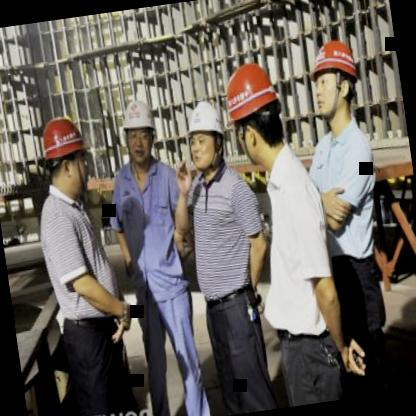helmet: (222, 55, 290, 173), (32, 108, 96, 202), (301, 37, 363, 127), (176, 92, 230, 172), (115, 91, 162, 166)
